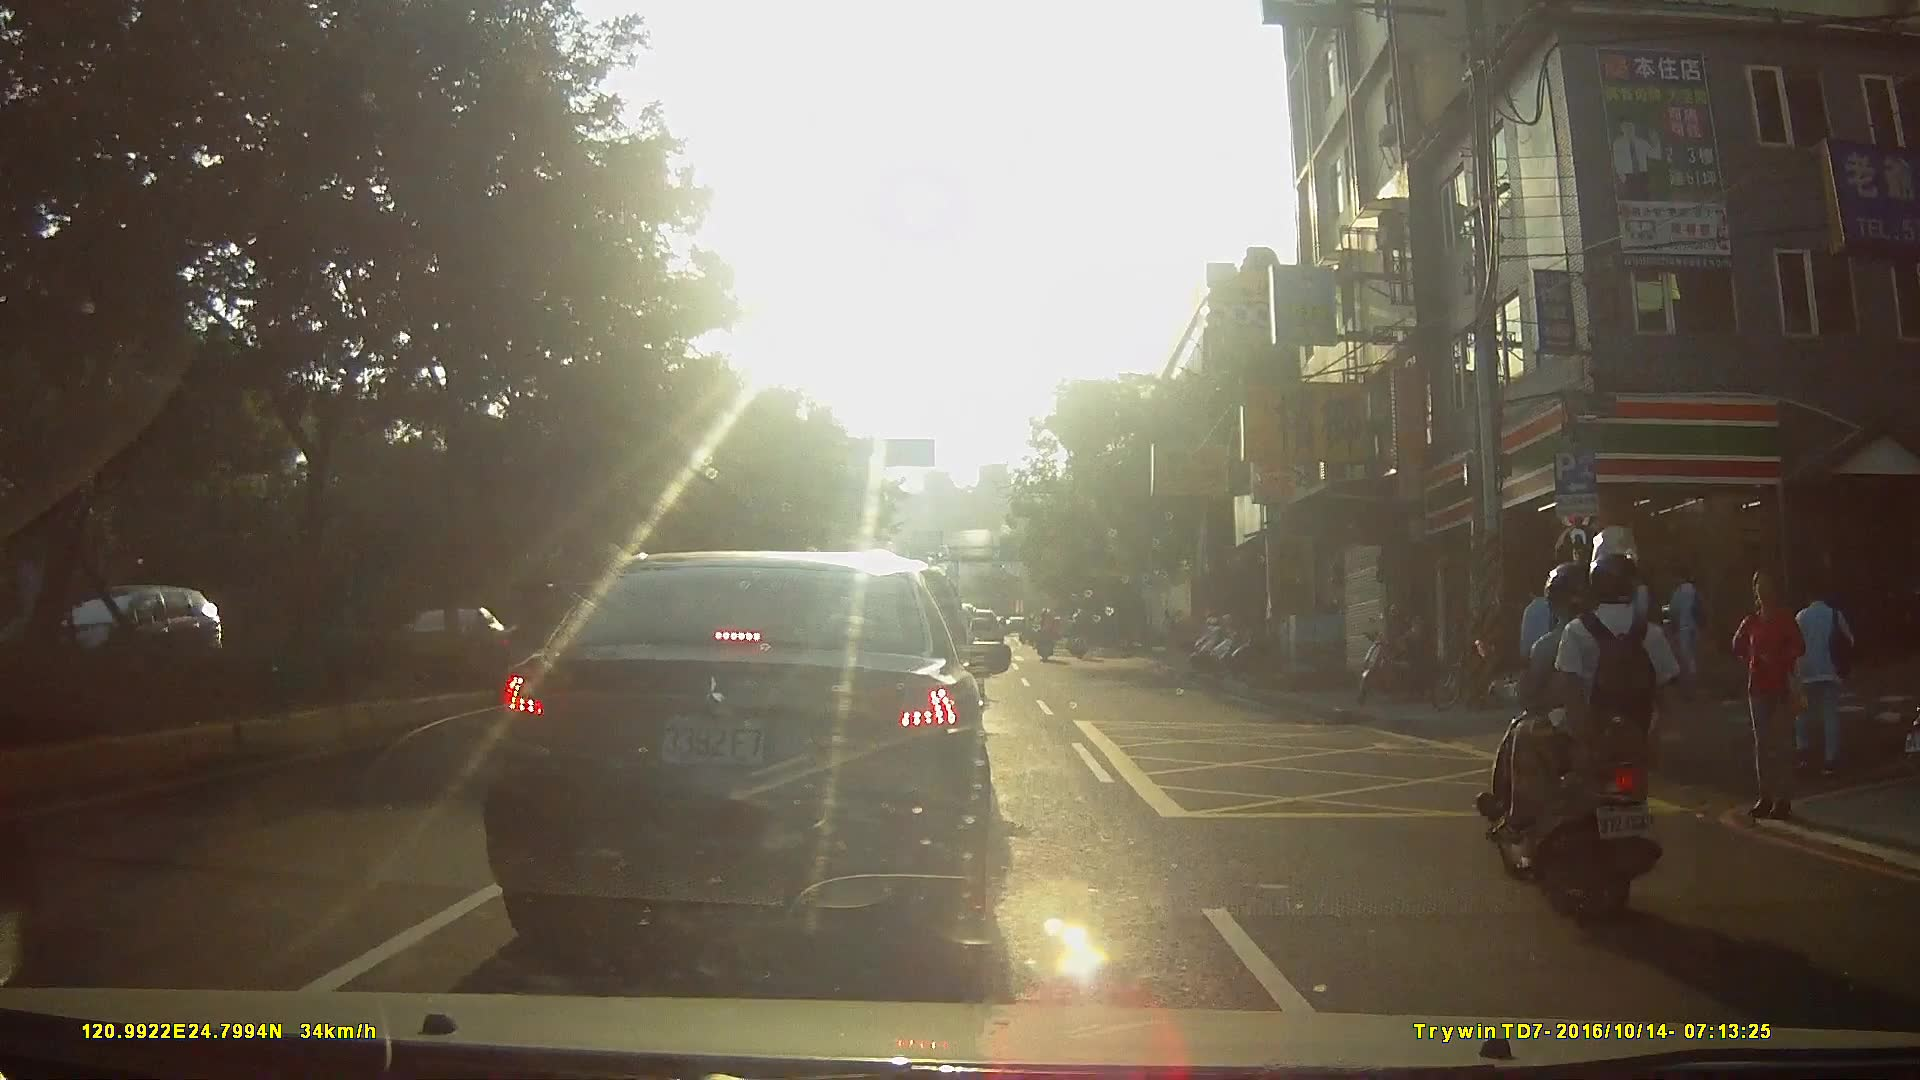pedestrian: (1733, 567, 1807, 817), (1523, 579, 1577, 715), (1607, 565, 1650, 689), (1672, 565, 1715, 679), (1602, 567, 1627, 696)
rider: (1482, 522, 1686, 920), (1066, 611, 1090, 662), (1037, 606, 1058, 665)
vehicle: (469, 537, 1043, 966), (57, 582, 231, 687)
